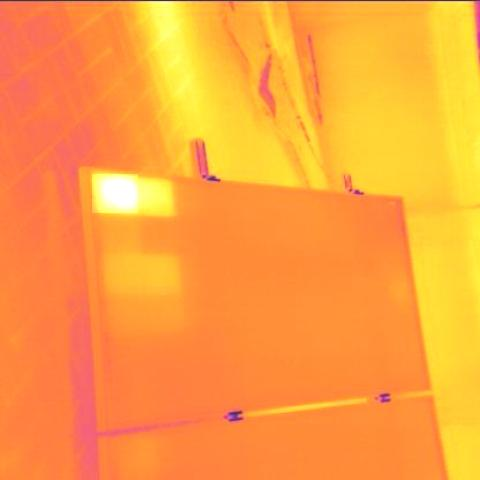fault: (92, 174, 138, 213), (144, 182, 178, 216)
